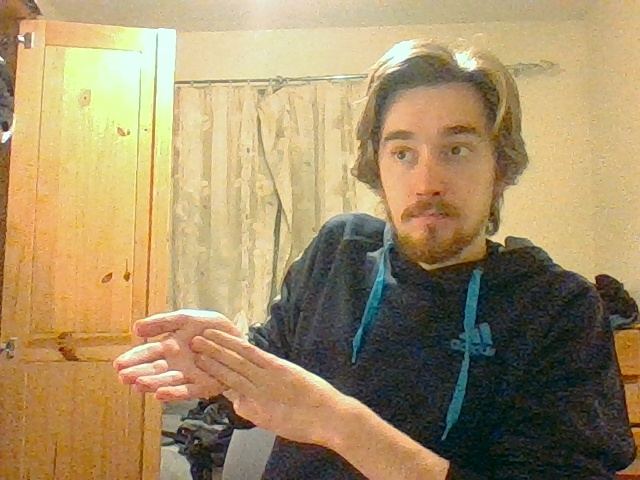mother: (113, 309, 256, 400)
